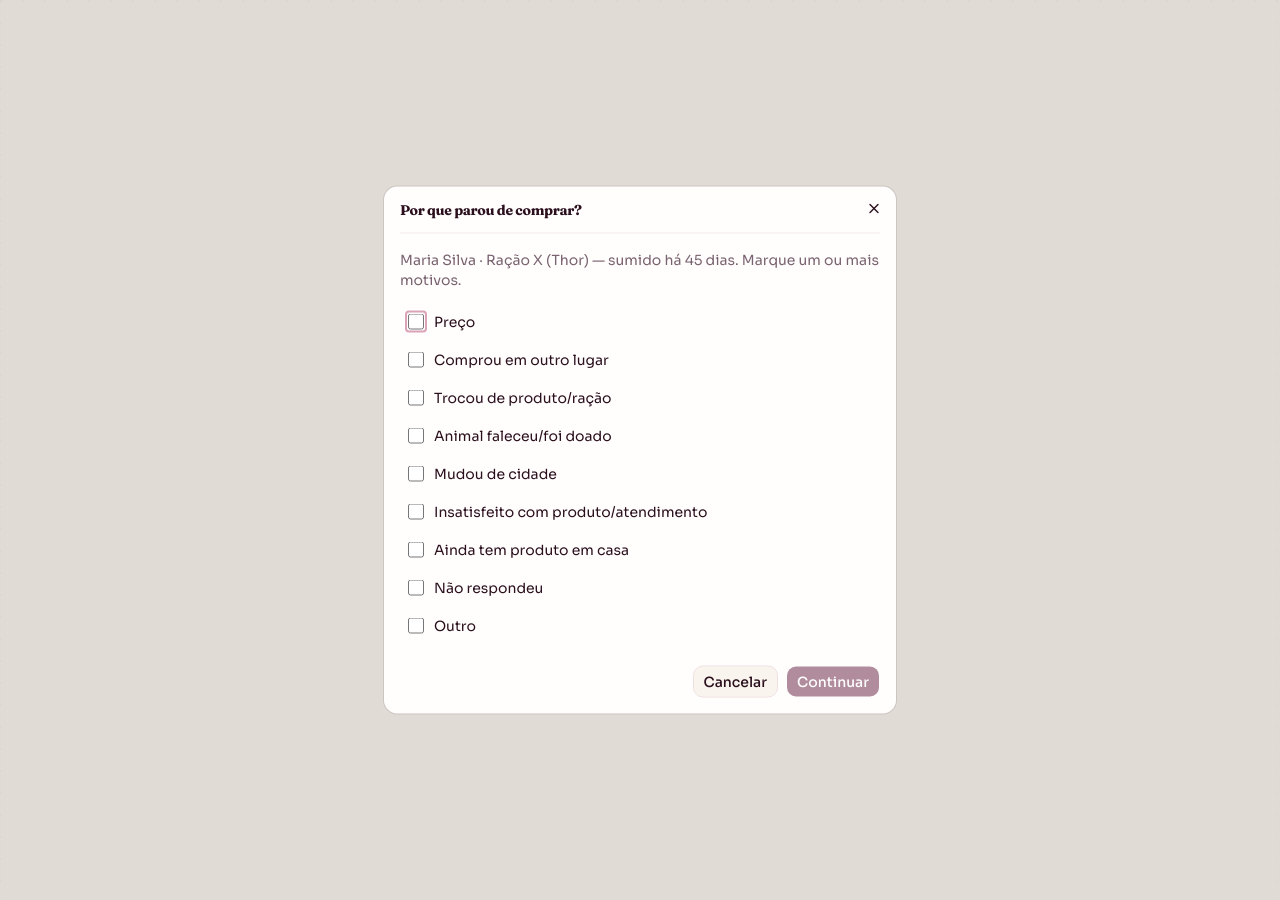
Scenario: MotivosSumidoDialog › 'Outro' exige texto para avançar
The width and height of the screenshot is (1280, 900).
Click the checkbox labelled "Outro" at (416, 626), box [408,618,424,634]
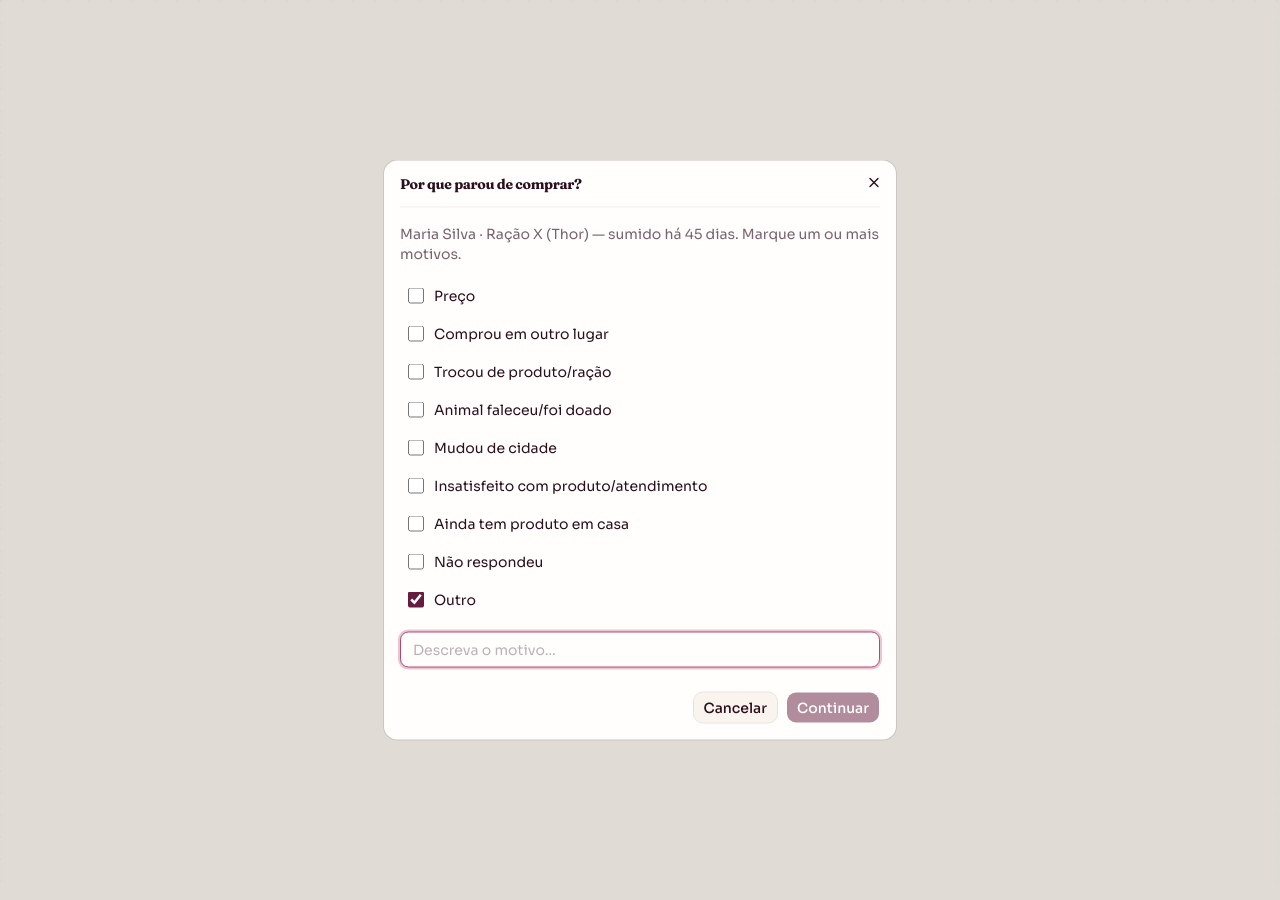
Check: the button "Continuar" is disabled, box [786,692,880,724]
Type "achou no atacado" into the field named "Descreva o outro motivo" at (640, 650), box [400,632,880,668]
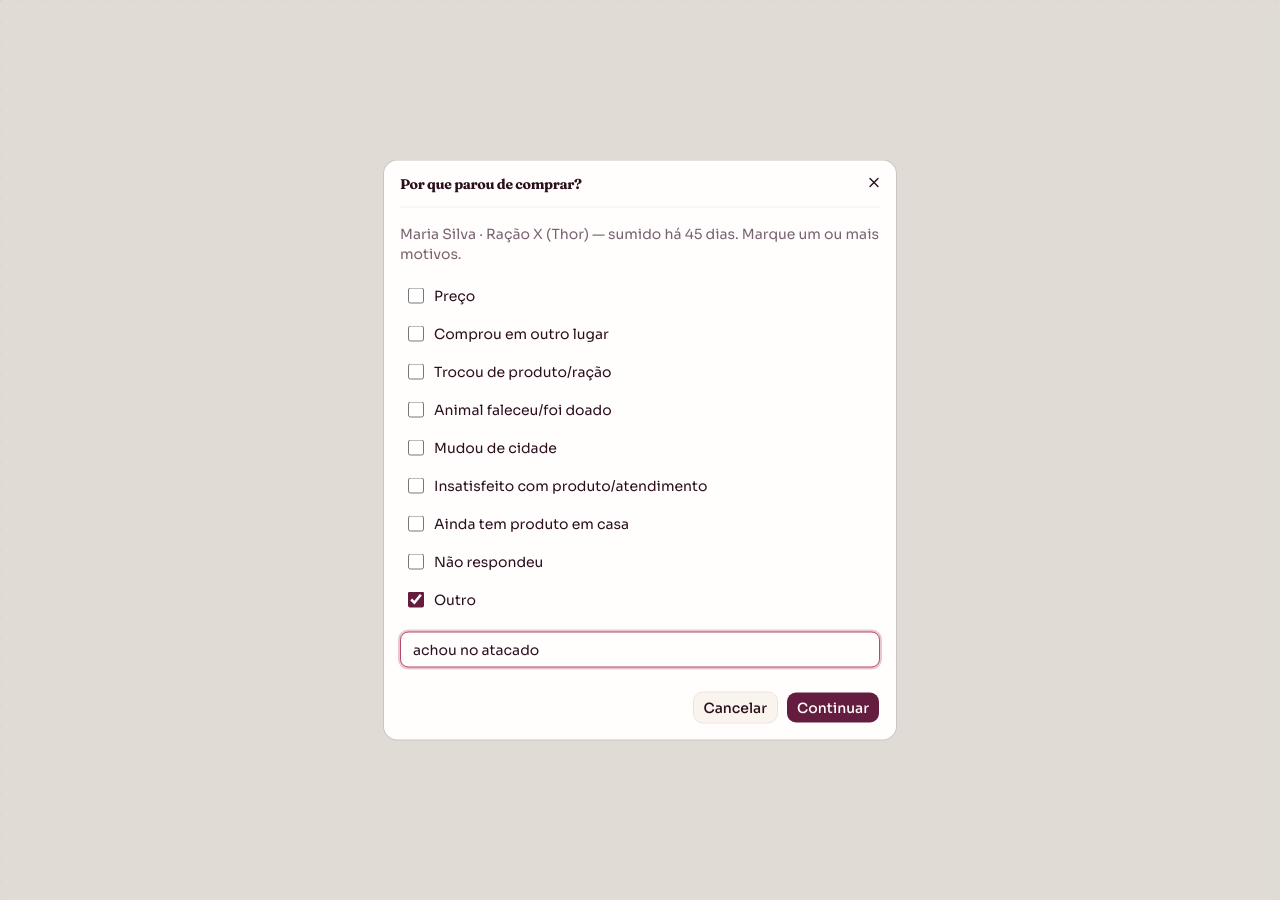
Check: the button "Continuar" is enabled, box [786,692,880,724]
